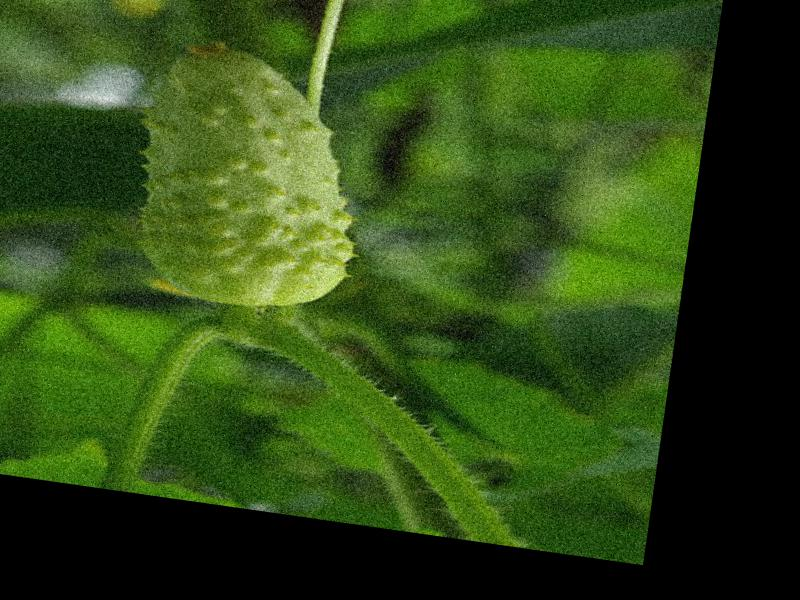Cucumber: (125, 31, 381, 321)
